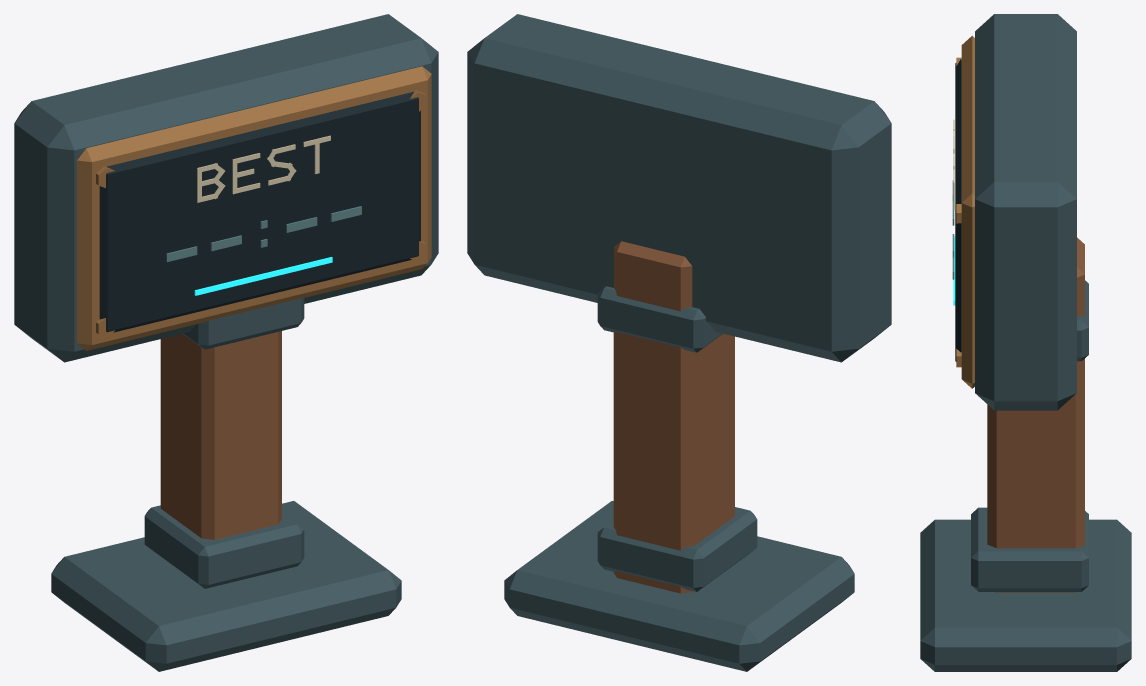
Rendered from e10b-vault-record-plate.glb.
The picture shows the model from 3 angles, left to right: view 1: azimuth 30°, elevation 25°; view 2: azimuth 150°, elevation 25°; view 3: azimuth 270°, elevation 25°; orthographic projection. The views are drawn at different scales.
Visible parts, largest first — view 1: e10b-vault-record-plate; view 2: e10b-vault-record-plate; view 3: e10b-vault-record-plate.
Boxes of the visible parts, bbox=[...] form: e10b-vault-record-plate: bbox=[14, 14, 438, 671]; e10b-vault-record-plate: bbox=[467, 14, 891, 671]; e10b-vault-record-plate: bbox=[920, 14, 1131, 671].
Size of the model in its own units: 1.07 by 1.41 by 0.52.
